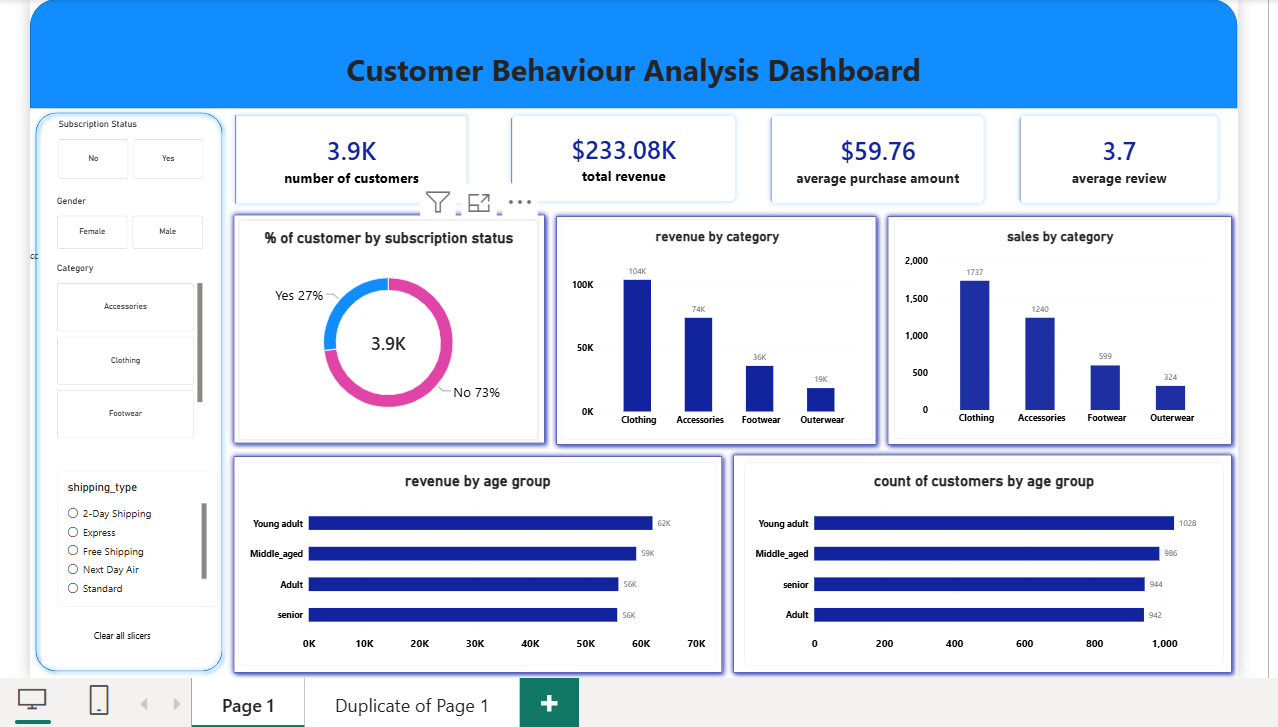

This screenshot's page, from the dashboard's own definition file:
{"tool":"powerbi","page":{"name":"Page 1","canvas":[1920,1080],"ordinal":0},"visuals":[{"type":"cardVisual","fields":{"Data":["customer_shopping.average review"]},"box":[1562.8,174.2,338.8,162.2],"z":0},{"type":"cardVisual","fields":{"Data":["customer_shopping.number of customers"]},"box":[314.9,174.2,391.3,162.2],"z":1000},{"type":"cardVisual","fields":{"Data":["customer_shopping.total revenue"]},"box":[753.9,174.2,379.4,159.9],"z":2000},{"type":"cardVisual","fields":{"Data":["customer_shopping.average purchase amount"]},"box":[1166.7,174.2,362.7,162.2],"z":3000},{"type":"shape","box":[0,0,1920.7,174.2],"z":4000},{"type":"textbox","box":[0,398.5,1920,157],"z":5000},{"type":"textbox","box":[0,78.7,1920.7,112.1],"z":6000},{"type":"shape","box":[314.9,334,513,381.7],"z":7000},{"type":"donutChart","title":"% of customer by subscription status","fields":{"Category":["customer_shopping.subscription_status"],"Y":["CountNonNull(customer_shopping.customer_id)"]},"box":[331.6,350.7,477.2,350.7],"z":8000},{"type":"shape","box":[827.9,336.4,527.3,381.7],"z":9000},{"type":"shape","box":[1355.2,336.4,565.5,381.7],"z":10000},{"type":"clusteredColumnChart","title":"revenue by category","fields":{"Y":["Sum(customer_shopping.purchase_amount)"],"Category":["customer_shopping.category"]},"box":[844.6,350.7,496.3,350.7],"z":11000},{"type":"clusteredColumnChart","title":"sales by category","fields":{"Category":["customer_shopping.category"],"Y":["CountNonNull(customer_shopping.customer_id)"]},"box":[1374.3,350.7,527.3,348.3],"z":12000},{"type":"shape","box":[0,172.5,314.9,906.6],"z":13000},{"type":"advancedSlicerVisual","fields":{"Values":["customer_shopping.subscription_status"]},"box":[45,190,230,95],"z":14000},{"type":"advancedSlicerVisual","fields":{"Values":["customer_shopping.gender"]},"box":[42.5,312.5,232.5,85],"z":15000},{"type":"advancedSlicerVisual","fields":{"Values":["customer_shopping.category"]},"box":[42.9,419.9,231.4,279.2],"z":16000},{"type":"listSlicer","fields":{"Values":["customer_shopping.shipping_type"]},"box":[42.5,752.5,255,215],"z":17000},{"type":"actionButton","box":[19.1,966.3,255.3,93.1],"z":18000},{"type":"shape","box":[315,717.5,795,362.5],"z":19000},{"type":"shape","box":[1109.5,715.8,811.2,365],"z":20000},{"type":"clusteredBarChart","title":"revenue by age group","fields":{"Category":["customer_shopping.age_group"],"Y":["Sum(customer_shopping.purchase_amount)"]},"box":[332.5,737.5,760,322.5],"z":21000},{"type":"clusteredBarChart","title":"count of customers by age group","fields":{"Category":["customer_shopping.age_group"],"Y":["CountNonNull(customer_shopping.customer_id)"]},"box":[1135,737.5,762.5,322.5],"z":22000}]}

Visuals, with their boxes on the page's 1920x1080 design canvas (x1, y1, x2, y2). These are canvas units, not pixel positions in the 1278x727 screenshot, which may show the page scaled, cropped or inside an application window:
cardVisual - customer_shopping.average review: rect(1563, 174, 1902, 336)
cardVisual - customer_shopping.number of customers: rect(315, 174, 706, 336)
cardVisual - customer_shopping.total revenue: rect(754, 174, 1133, 334)
cardVisual - customer_shopping.average purchase amount: rect(1167, 174, 1529, 336)
shape: rect(0, 0, 1921, 174)
textbox: rect(0, 398, 1920, 556)
textbox: rect(0, 79, 1921, 191)
shape: rect(315, 334, 828, 716)
"% of customer by subscription status" donutChart: rect(332, 351, 809, 701)
shape: rect(828, 336, 1355, 718)
shape: rect(1355, 336, 1921, 718)
"revenue by category" clusteredColumnChart: rect(845, 351, 1341, 701)
"sales by category" clusteredColumnChart: rect(1374, 351, 1902, 699)
shape: rect(0, 172, 315, 1079)
advancedSlicerVisual - customer_shopping.subscription_status: rect(45, 190, 275, 285)
advancedSlicerVisual - customer_shopping.gender: rect(42, 312, 275, 398)
advancedSlicerVisual - customer_shopping.category: rect(43, 420, 274, 699)
listSlicer - customer_shopping.shipping_type: rect(42, 752, 298, 968)
actionButton: rect(19, 966, 274, 1059)
shape: rect(315, 718, 1110, 1080)
shape: rect(1110, 716, 1921, 1081)
"revenue by age group" clusteredBarChart: rect(332, 738, 1092, 1060)
"count of customers by age group" clusteredBarChart: rect(1135, 738, 1898, 1060)
